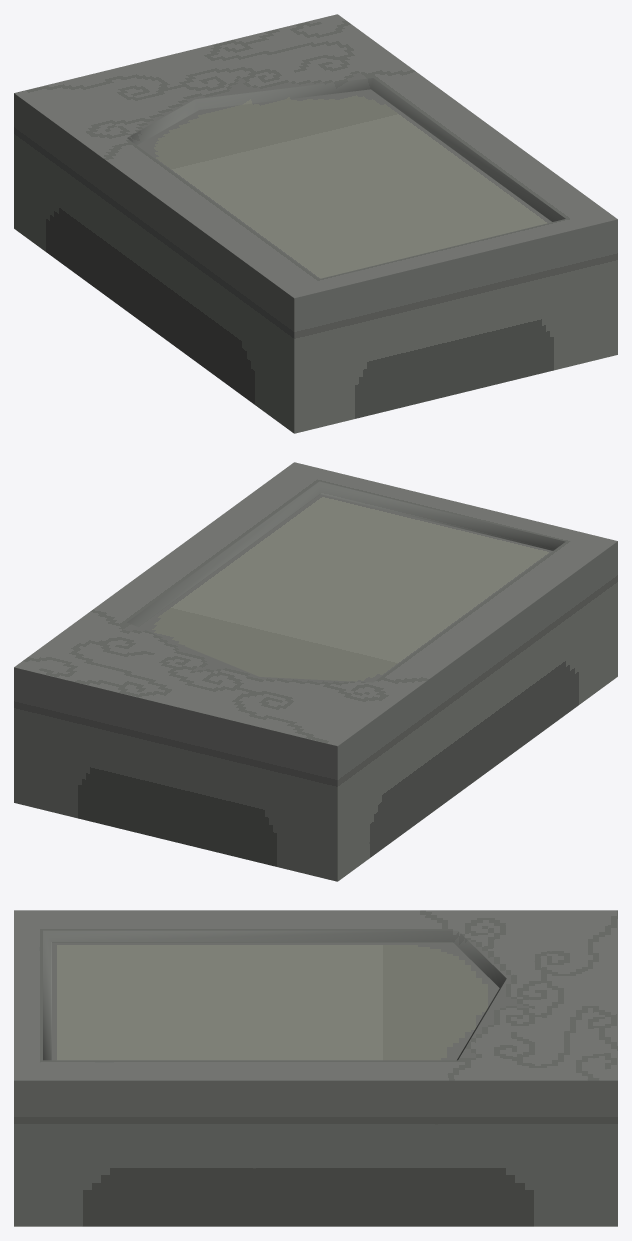
Rendered from 0054_Inkstone.glb.
The picture shows the model from 3 angles, top to bottom: view 1: azimuth 30°, elevation 25°; view 2: azimuth 150°, elevation 25°; view 3: azimuth 270°, elevation 25°; orthographic projection. The views are drawn at different scales.
Visible parts, largest first — view 1: part_0; view 2: part_0; view 3: part_0.
Boxes of the visible parts, box(x1,y1,x2,y2) form: part_0: box(14, 14, 617, 433); part_0: box(14, 462, 617, 881); part_0: box(14, 910, 617, 1226).
Bounding box in the file's own units: 0.1 × 0.04 × 0.15.
1 material, 1 textured.
